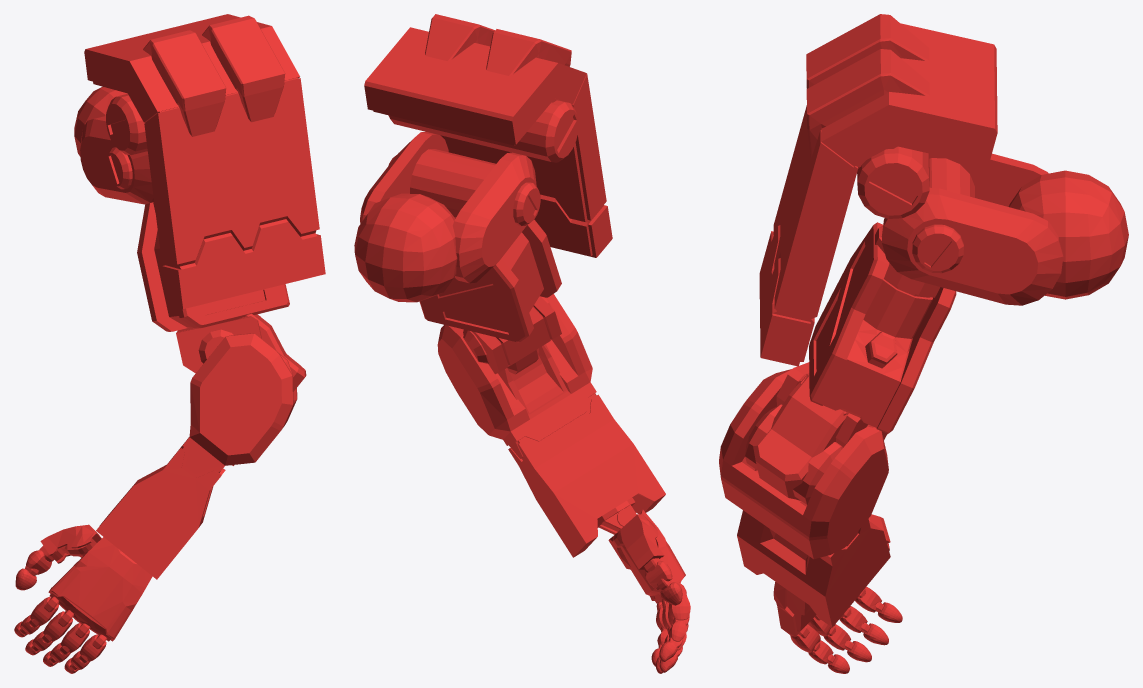
Rendered from right_arm.dae.
The picture shows the model from 3 angles, left to right: view 1: azimuth 30°, elevation 25°; view 2: azimuth 150°, elevation 25°; view 3: azimuth 270°, elevation 25°; orthographic projection. The views are drawn at different scales.
Parts seen in each view (by area): view 1: tmp_export_right_arm; view 2: tmp_export_right_arm; view 3: tmp_export_right_arm.
Boxes of the visible parts, <box> form: tmp_export_right_arm: <box>14,14,325,673</box>; tmp_export_right_arm: <box>354,14,690,673</box>; tmp_export_right_arm: <box>719,14,1128,673</box>.
Size of the model in its own units: 0.1177 by 0.1283 by 0.2479.
